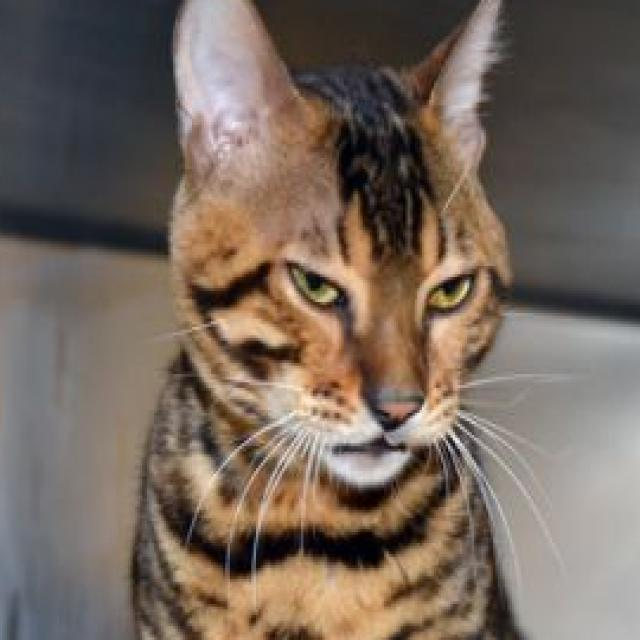Bengal: (105, 0, 560, 640)
